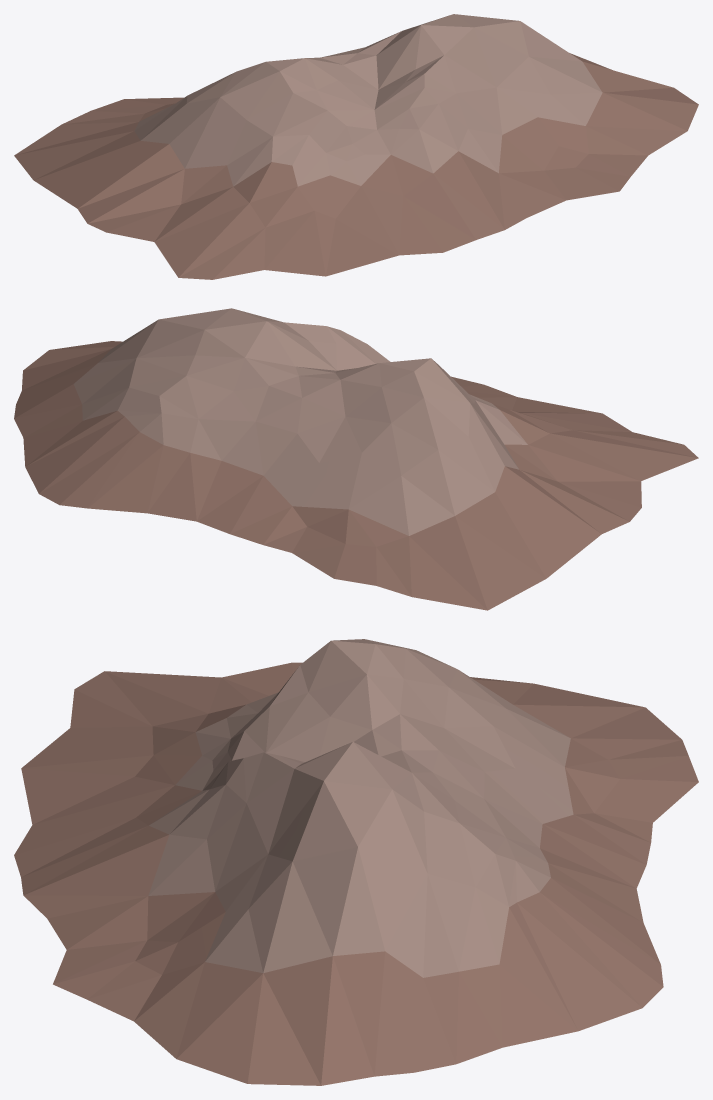
The model's file is hill_001.fbx.
3 renders of one model, top to bottom at view 1: azimuth 30°, elevation 25°; view 2: azimuth 150°, elevation 25°; view 3: azimuth 270°, elevation 25°, orthographic. The views are drawn at different scales.
Visible parts, largest first — view 1: hill_001; view 2: hill_001; view 3: hill_001.
Boxes of the visible parts, x1=… form: hill_001: x1=14, y1=14, x2=698, y2=279; hill_001: x1=14, y1=308, x2=698, y2=610; hill_001: x1=14, y1=639, x2=698, y2=1085.
Size of the model in its own units: 5816 by 4000 by 1218.
